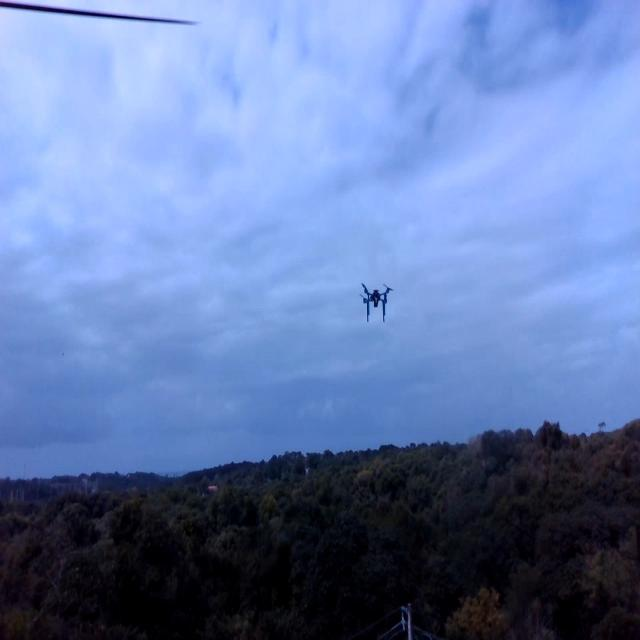-uav-: (349, 270, 408, 346)
